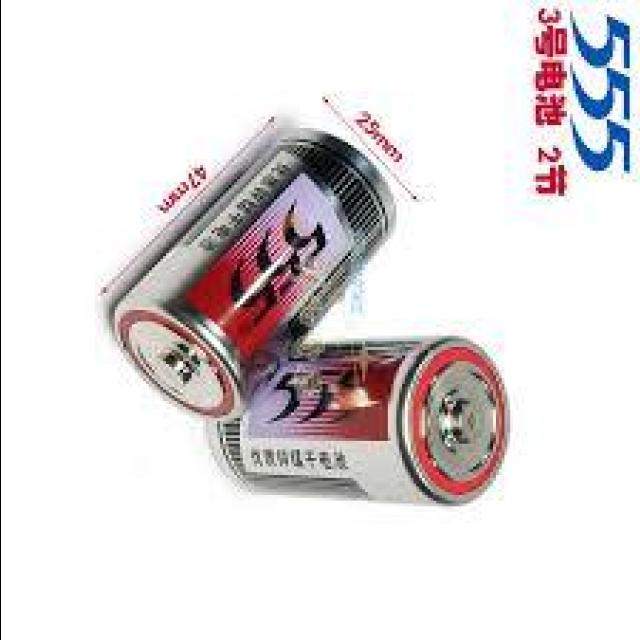-Hazardous waste - battery-: (106, 128, 398, 422), (208, 342, 508, 502)
